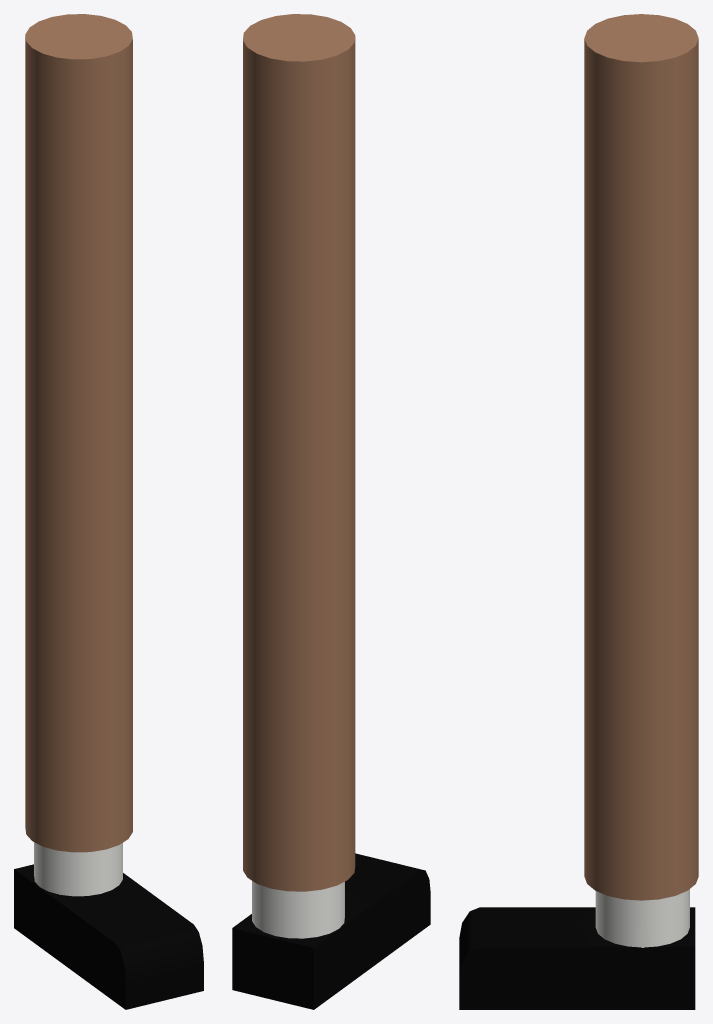
Rendered from pieizq.obj.
The picture shows the model from 3 angles, left to right: view 1: azimuth 30°, elevation 25°; view 2: azimuth 150°, elevation 25°; view 3: azimuth 270°, elevation 25°; orthographic projection. The views are drawn at different scales.
Bounding box in the file's own units: 0.8021 × 7.37 × 1.68.
Materials: 3 (3 with a texture image).
